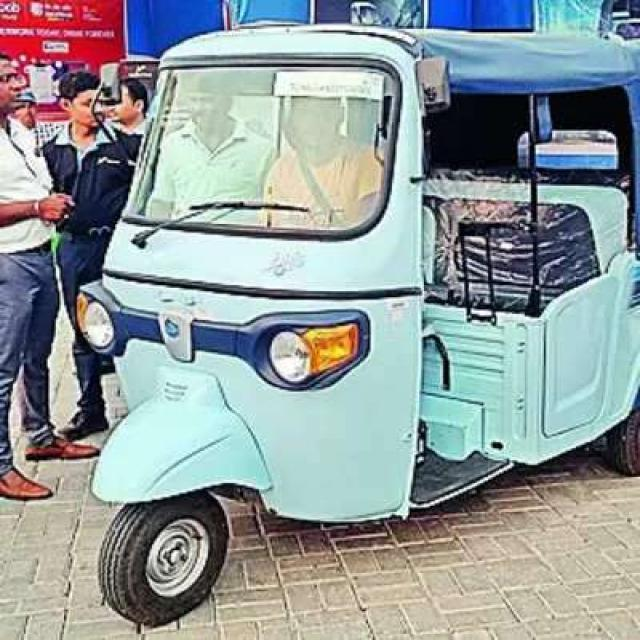autorickshaw: (75, 25, 639, 622)
